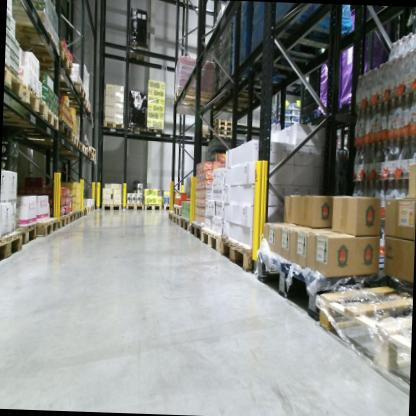pallet: (317, 281, 413, 395), (254, 246, 394, 319), (8, 7, 64, 58), (220, 229, 268, 275), (4, 85, 47, 122), (3, 104, 61, 131), (22, 47, 74, 73), (172, 85, 216, 109), (207, 96, 256, 116), (0, 230, 26, 264), (200, 224, 227, 255), (29, 121, 73, 140), (4, 62, 23, 105), (16, 220, 39, 253), (51, 80, 87, 101), (39, 211, 60, 243), (66, 108, 98, 127), (189, 217, 207, 242), (60, 97, 90, 112), (126, 43, 148, 63), (124, 121, 147, 139), (209, 114, 237, 127), (201, 131, 233, 141), (56, 212, 71, 232), (180, 213, 193, 234), (103, 120, 125, 132), (144, 123, 166, 135), (143, 202, 163, 213), (102, 202, 122, 213), (67, 129, 79, 146), (125, 203, 145, 213), (162, 202, 176, 215), (69, 208, 78, 227), (78, 140, 88, 157), (210, 129, 232, 136), (208, 125, 233, 131), (172, 214, 181, 228), (75, 138, 83, 152), (76, 209, 84, 222), (173, 204, 182, 214), (83, 150, 92, 159), (166, 210, 173, 221), (88, 146, 96, 155), (89, 154, 96, 161), (91, 204, 96, 213), (86, 204, 91, 212), (84, 208, 88, 217)
